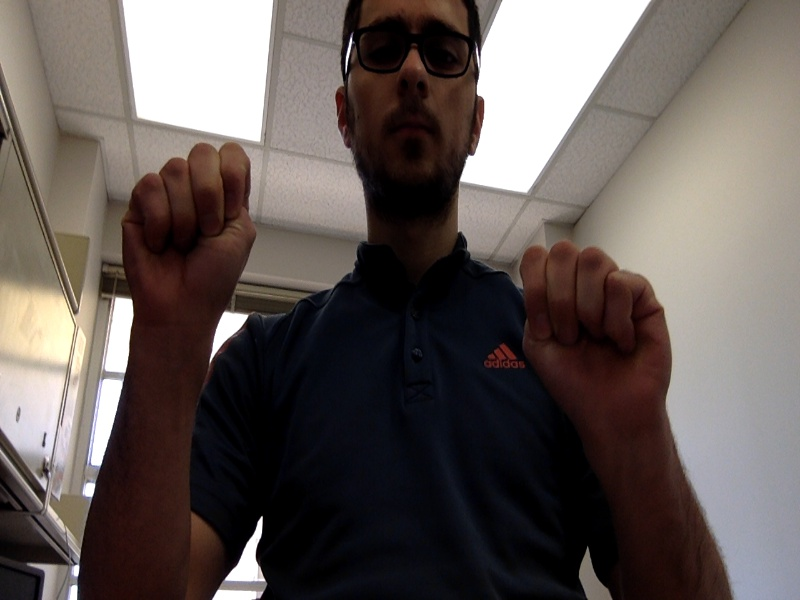0-hand: (520, 247, 671, 424), (119, 144, 254, 315)
